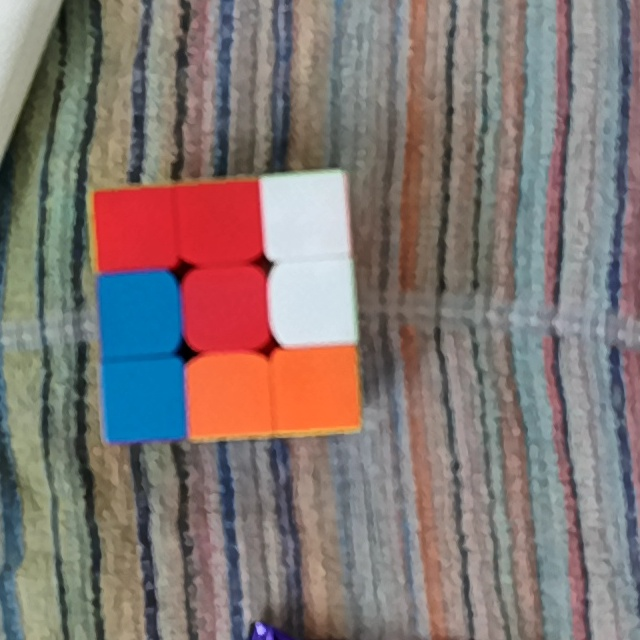tile: (279, 353, 352, 423), (278, 271, 350, 339), (194, 274, 261, 346), (195, 362, 265, 430), (273, 180, 340, 251), (106, 280, 172, 351), (99, 195, 168, 262), (109, 366, 179, 432), (186, 190, 255, 256)
